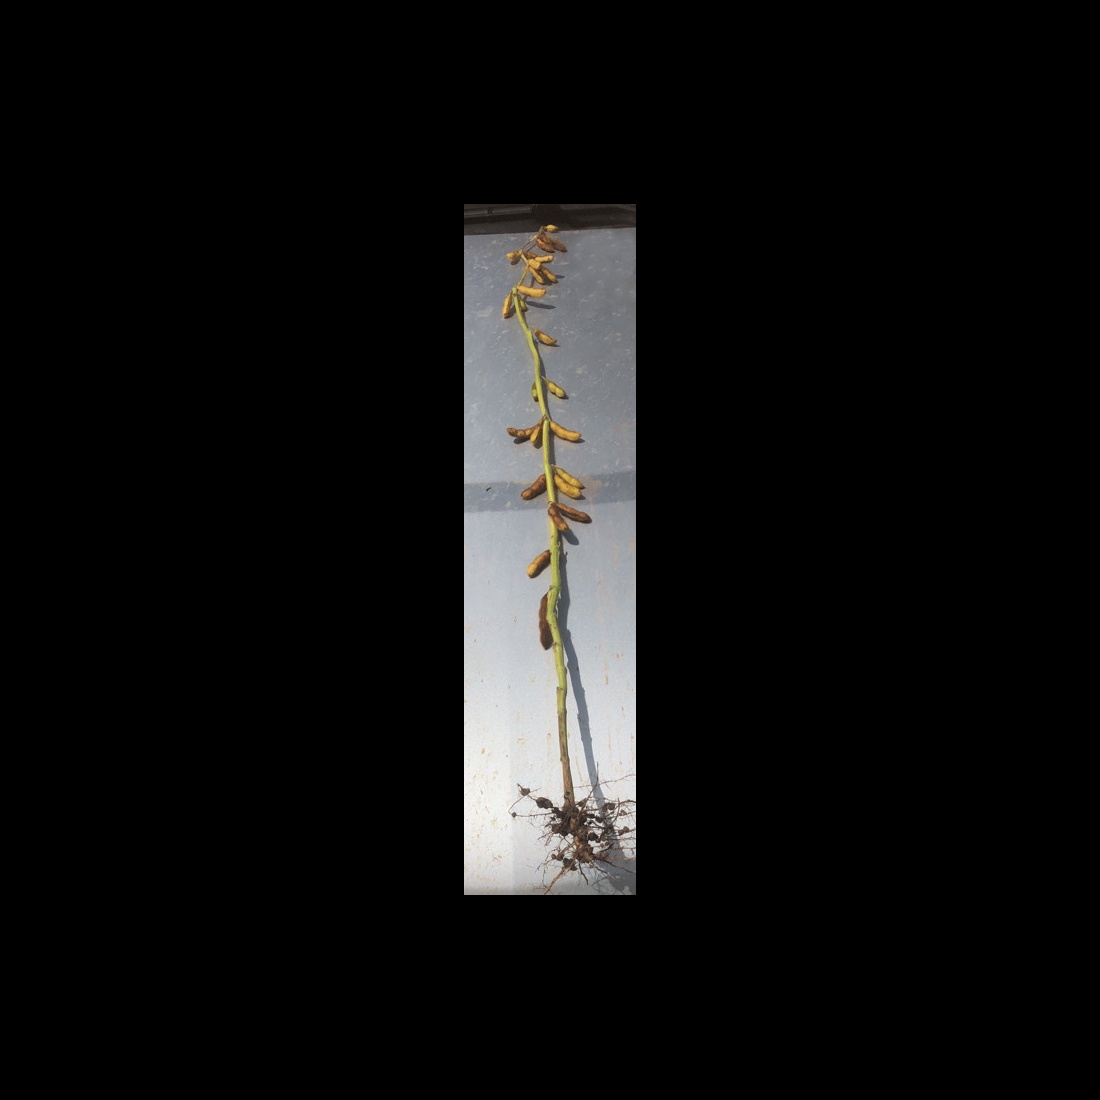pod: (556, 497, 597, 523), (537, 589, 554, 650), (519, 472, 549, 501), (548, 422, 582, 444), (528, 549, 553, 578), (545, 507, 568, 533), (519, 283, 548, 299), (545, 381, 569, 398), (533, 328, 558, 343), (503, 247, 522, 264), (501, 291, 512, 320), (535, 253, 556, 263), (545, 223, 561, 235), (531, 378, 537, 402)
soy: (478, 211, 624, 881)
